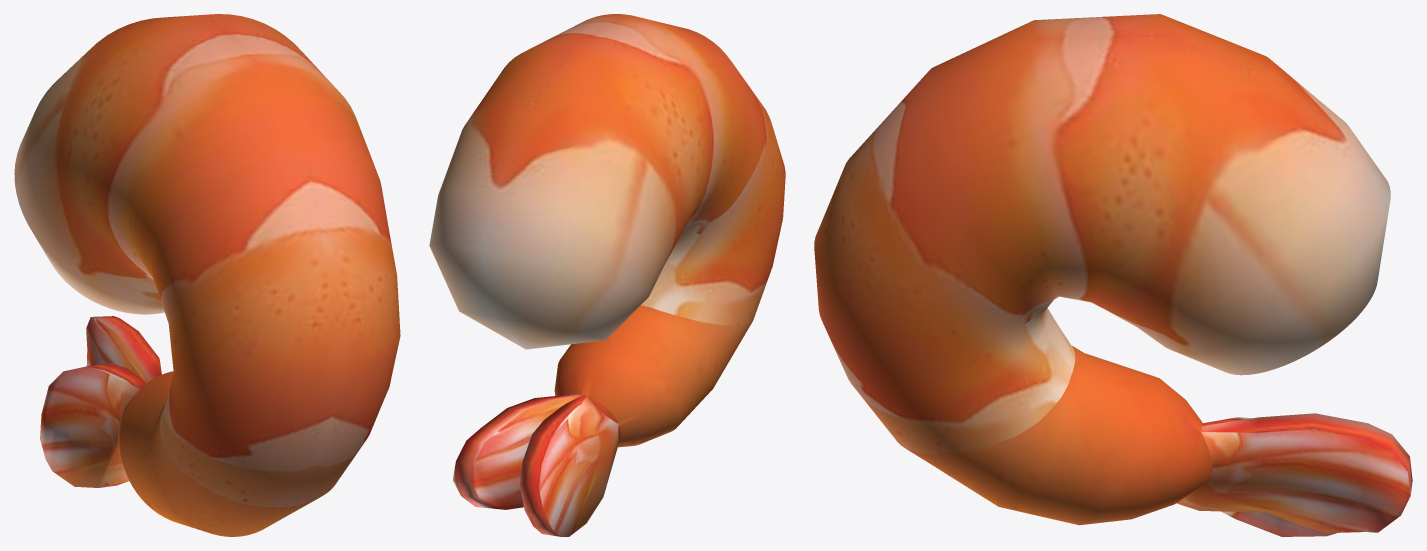
File: udang.glb
The picture shows the model from 3 angles, left to right: view 1: azimuth 30°, elevation 25°; view 2: azimuth 150°, elevation 25°; view 3: azimuth 270°, elevation 25°; orthographic projection. The views are drawn at different scales.
Parts seen in each view (by area): view 1: Shrimp; view 2: Shrimp; view 3: Shrimp.
Part boxes in pixels (x1,y1,x2,y2): Shrimp: (14,14,400,536); Shrimp: (429,14,785,536); Shrimp: (814,14,1412,536).
Bounding box in the file's own units: 0.1945 × 0.378 × 0.3871.
1 material, 1 textured.
